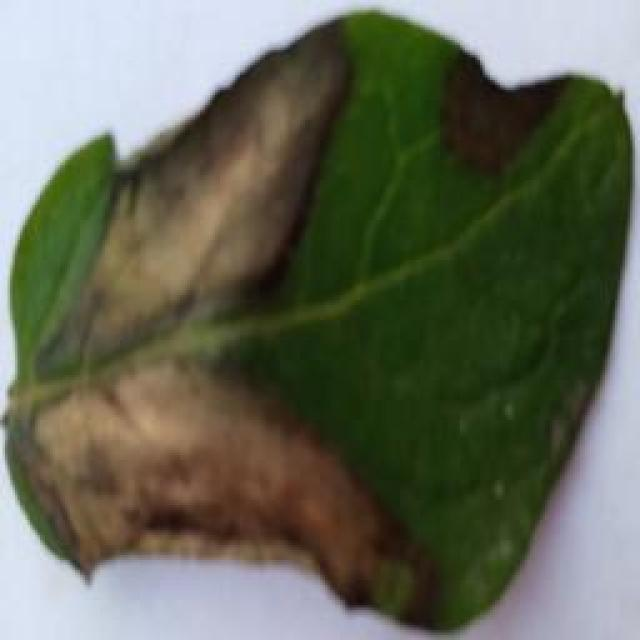Potato_Late_Blight: (4, 10, 623, 630)
